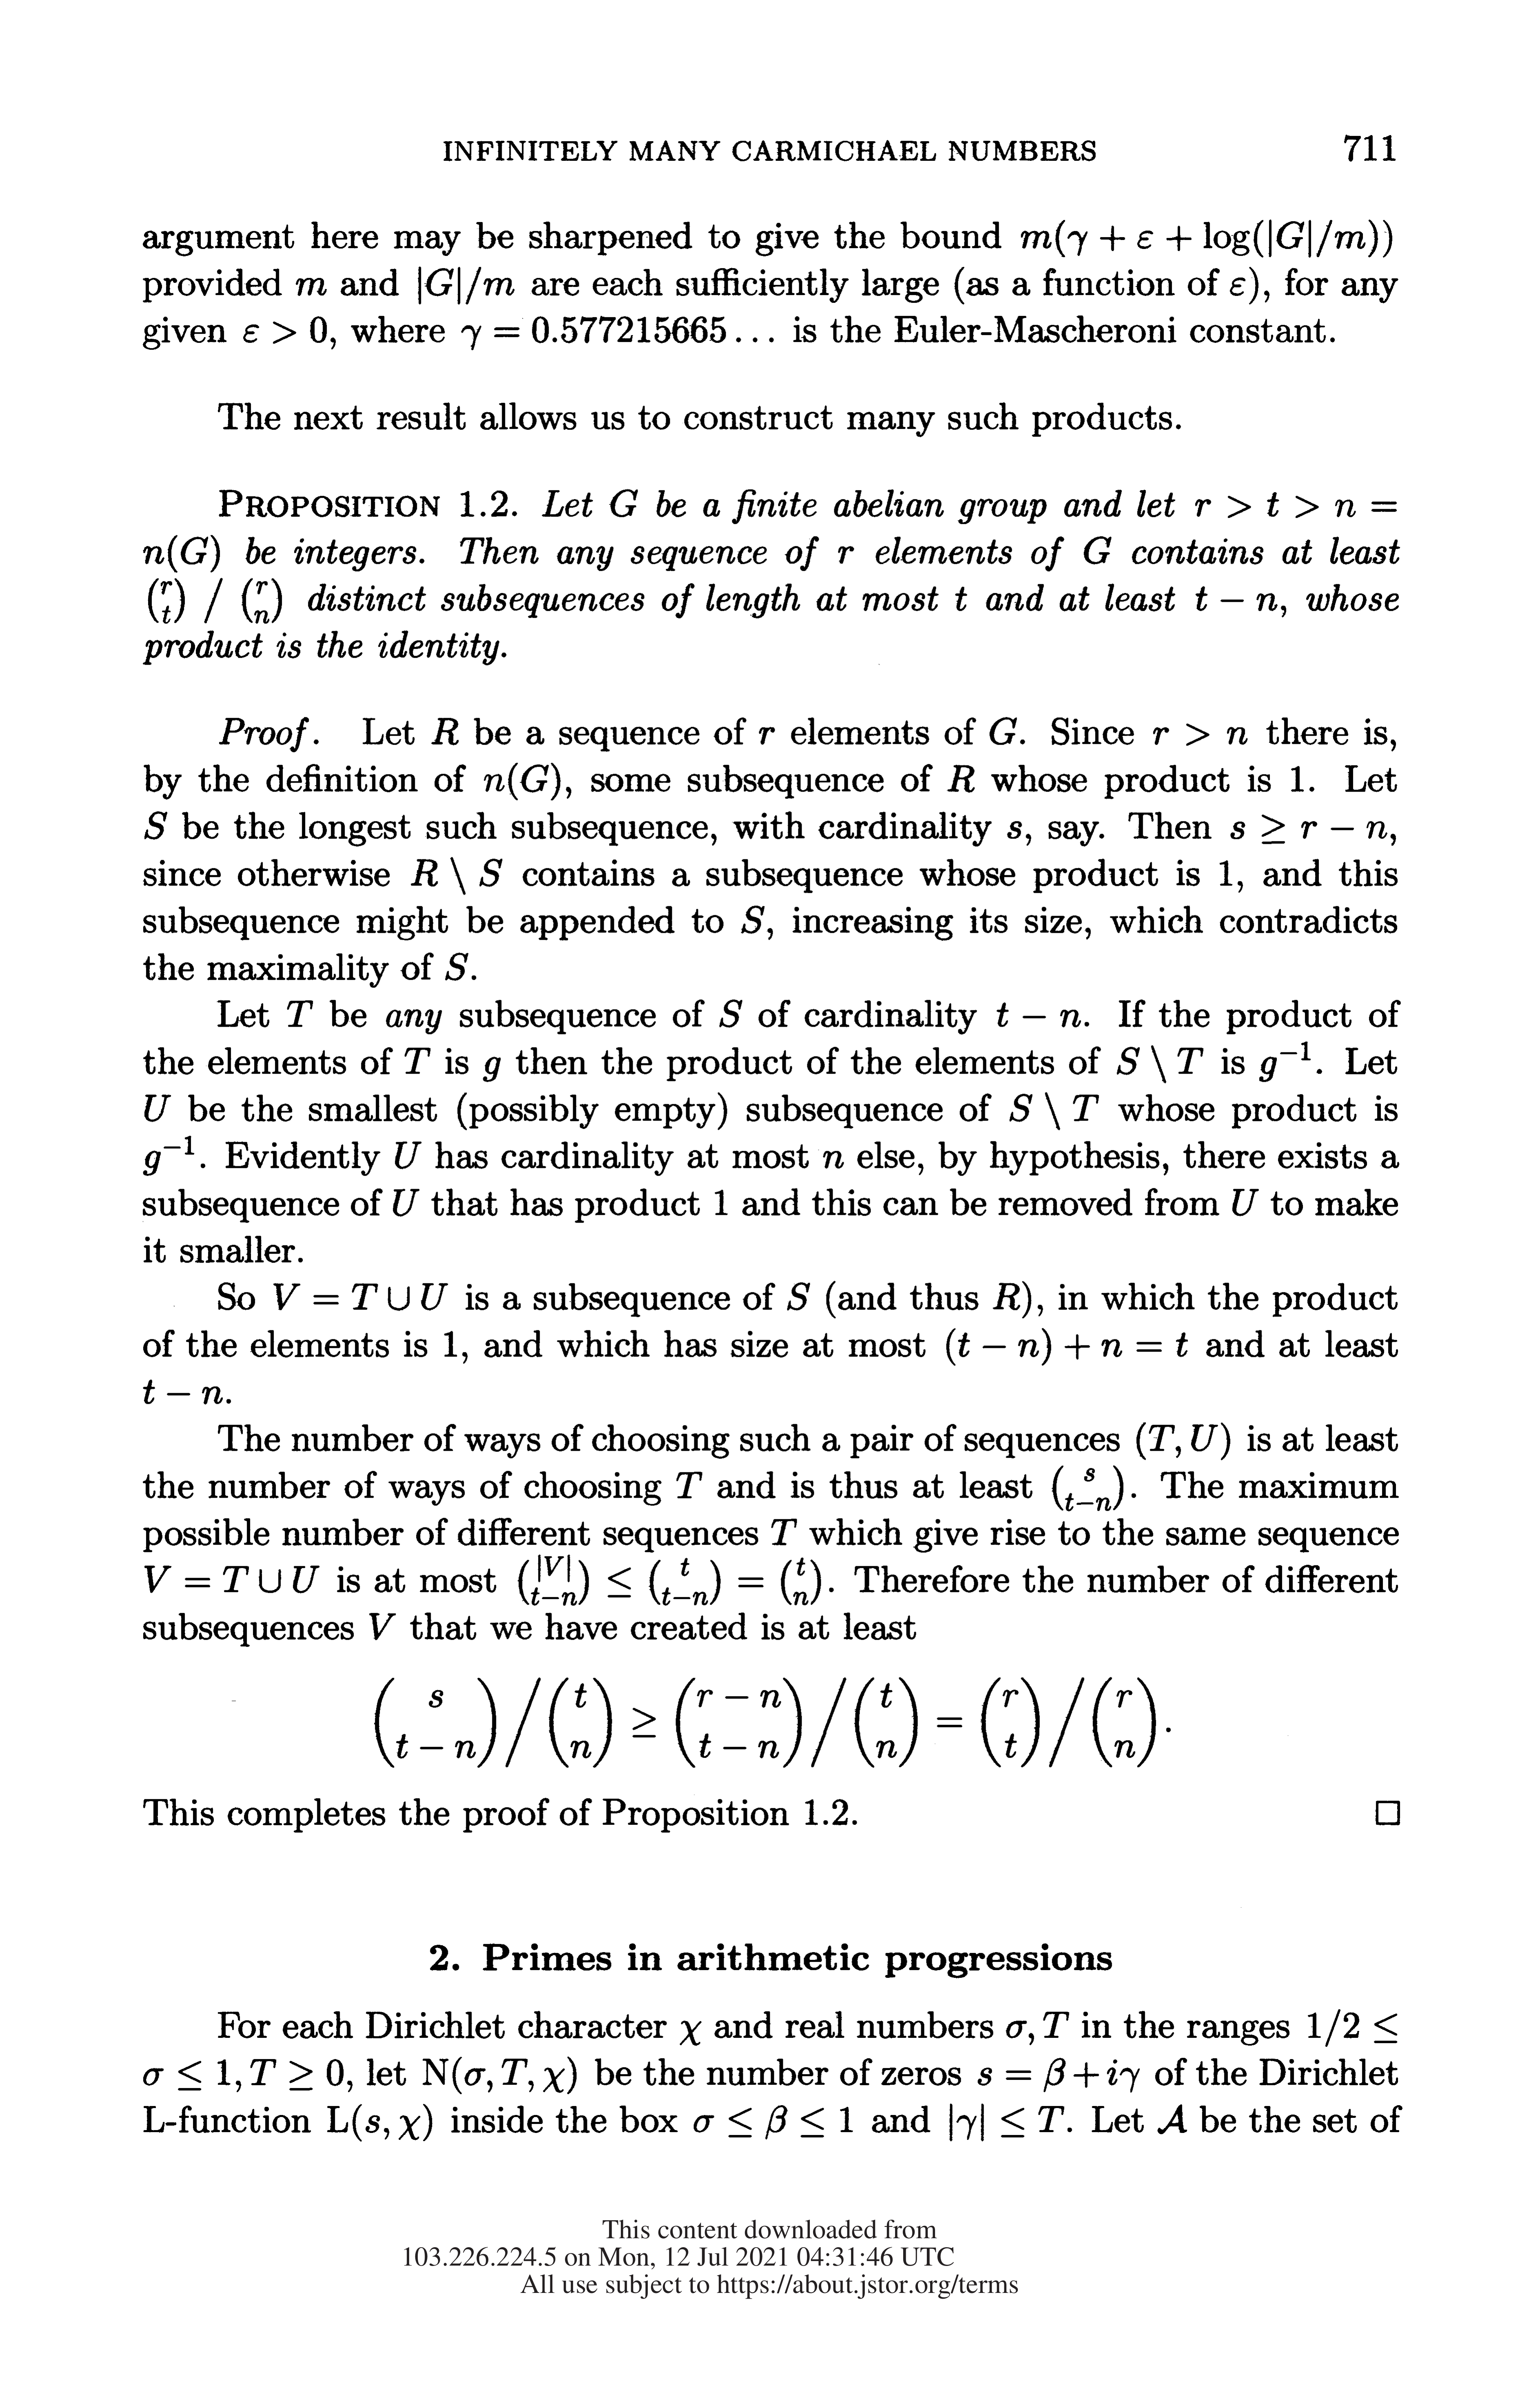maths: (374, 1678, 1156, 1767), (517, 1527, 821, 1606), (1021, 219, 1393, 256), (461, 316, 774, 349), (947, 1329, 1187, 1365), (147, 577, 281, 623), (423, 2057, 575, 2094), (693, 2104, 852, 2139), (979, 2059, 1140, 2092), (1194, 491, 1396, 518), (144, 1566, 319, 1594), (274, 1283, 447, 1311), (1230, 814, 1387, 844), (949, 2104, 1065, 2141), (328, 2104, 431, 2141), (410, 856, 502, 895), (1137, 1423, 1230, 1460), (1010, 1092, 1098, 1130), (1117, 1044, 1203, 1083), (424, 267, 514, 304), (1308, 2010, 1396, 2046), (144, 2059, 240, 2092), (1052, 1466, 1123, 1511), (244, 316, 335, 349), (142, 535, 219, 572), (484, 763, 560, 800), (251, 2059, 344, 2085), (1154, 723, 1247, 746), (996, 1002, 1080, 1027), (1259, 1041, 1310, 1081), (1196, 586, 1277, 611), (144, 1136, 193, 1176), (142, 1380, 223, 1404), (740, 906, 774, 939), (1158, 2104, 1187, 2134), (609, 490, 637, 516), (1084, 537, 1112, 563), (989, 718, 1017, 744), (947, 765, 975, 792), (431, 718, 458, 744), (144, 1095, 170, 1122), (395, 1143, 421, 1169), (393, 1190, 419, 1216), (1233, 1190, 1259, 1216), (993, 1283, 1019, 1309), (368, 1613, 395, 1639), (288, 1000, 312, 1027), (677, 1473, 702, 1499), (772, 1518, 796, 1544), (1007, 2020, 1033, 2045), (1044, 2011, 1068, 2038), (144, 811, 167, 839), (719, 999, 742, 1027), (788, 1283, 810, 1311), (405, 1048, 430, 1072), (1375, 1801, 1400, 1825), (446, 953, 468, 979), (679, 2020, 702, 2045), (296, 277, 326, 295), (482, 1057, 500, 1081), (823, 1151, 844, 1169), (1230, 277, 1245, 295), (838, 546, 854, 563), (759, 727, 775, 744), (956, 586, 966, 611), (1007, 821, 1021, 839)
